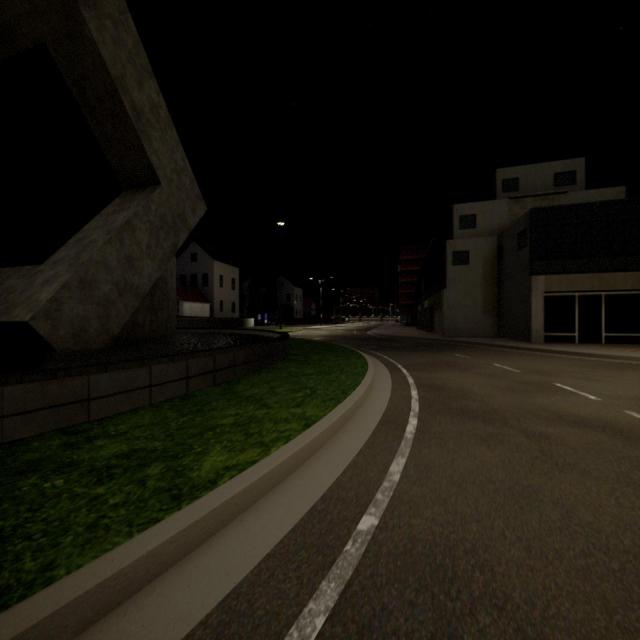Vehicle: (330, 316, 340, 324)
